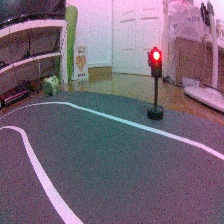red: (145, 46, 168, 121)
